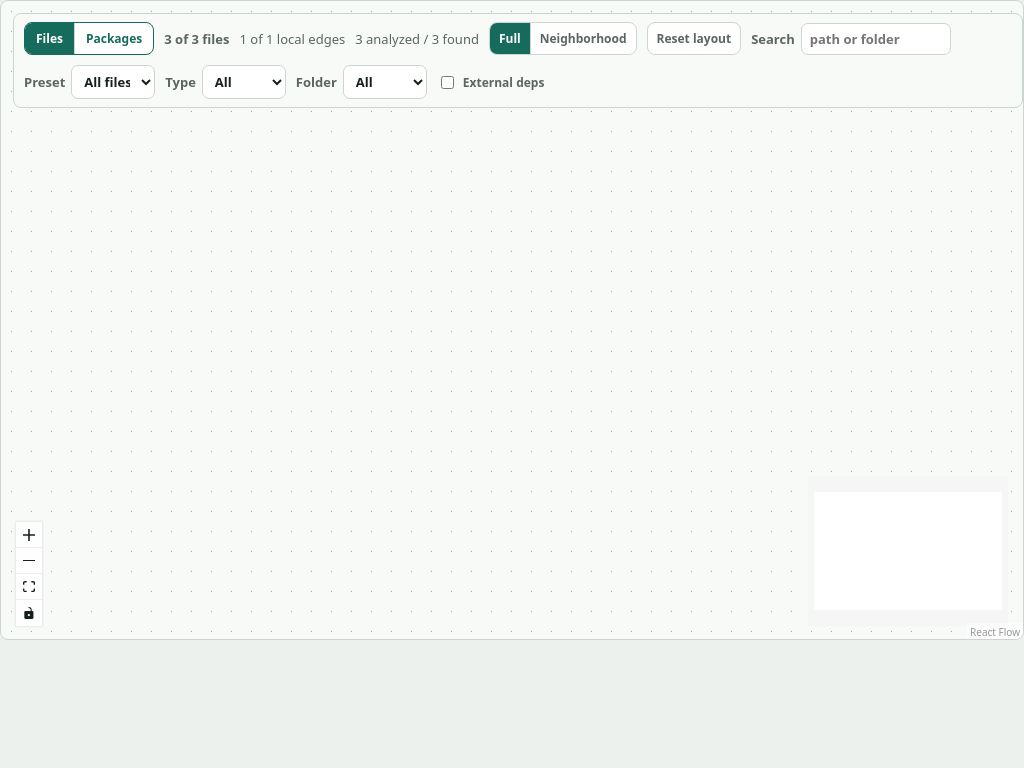
Test: GraphCanvas › shows only one-hop related files in neighborhood mode
Click the button "Neighborhood".
click(583, 38)  # box [531,23,636,54]
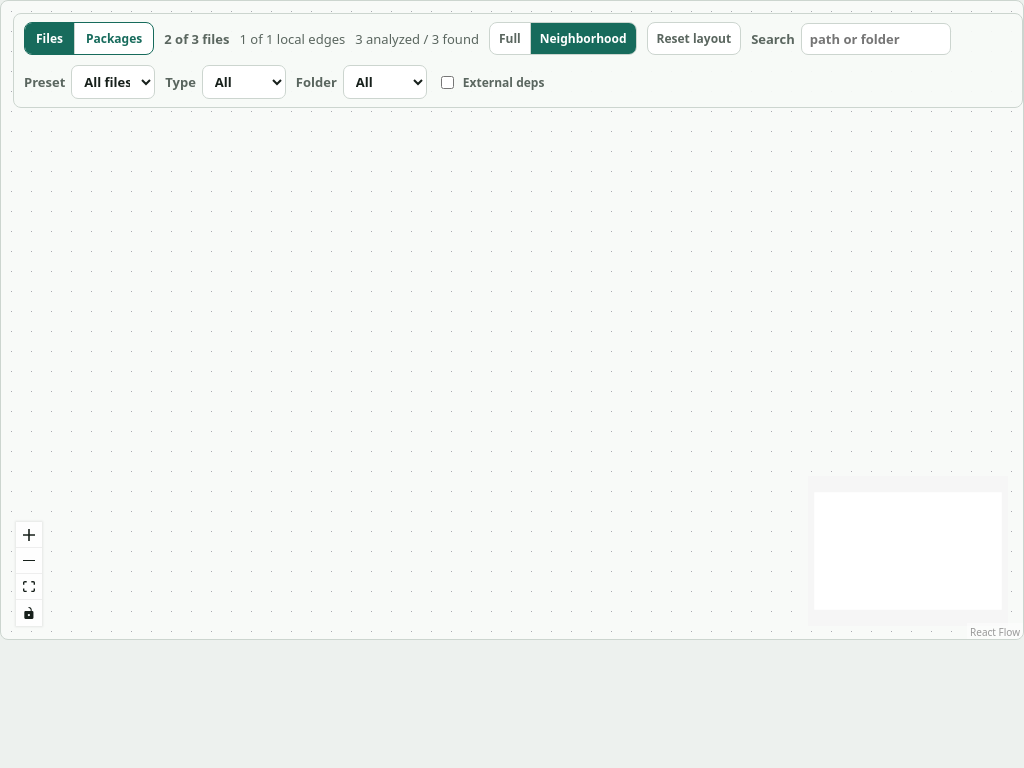
Now the text "2 of 3 files" is shown, box [164,30,230,48]
